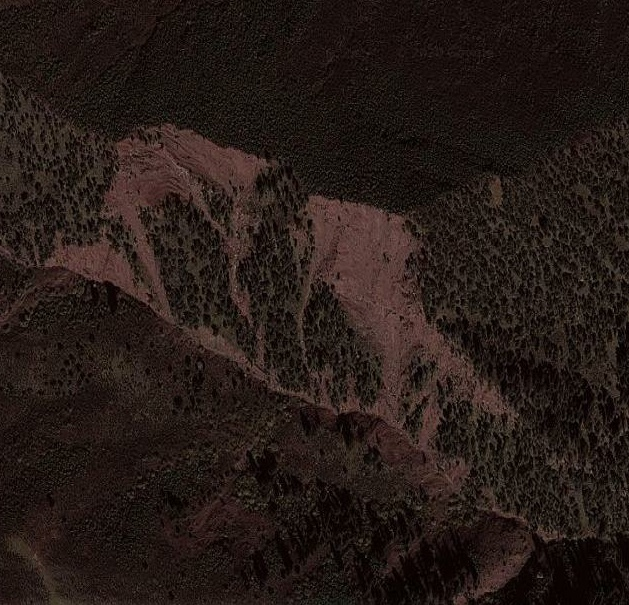slope: (306, 193, 503, 418), (101, 120, 266, 230), (34, 238, 153, 301)
